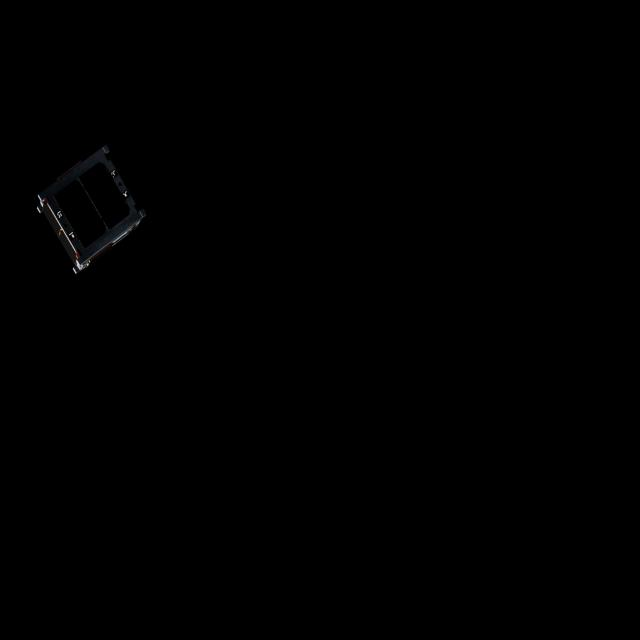medium_debris: (28, 137, 156, 275)
